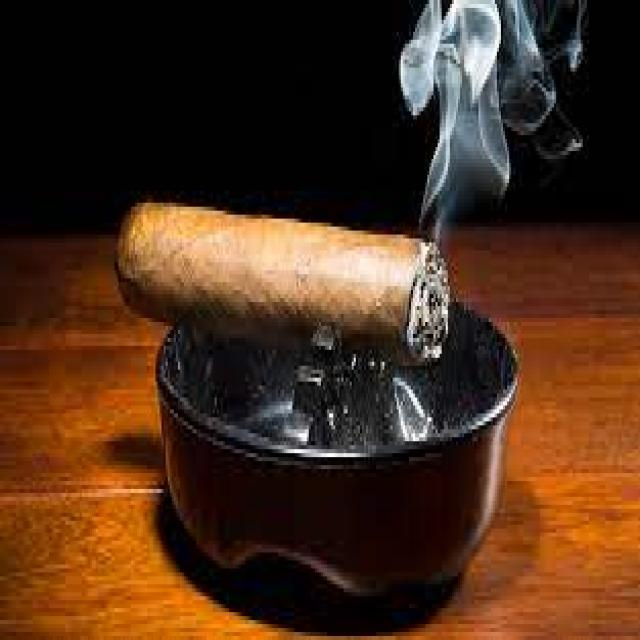Cigarette: (116, 202, 450, 366)
